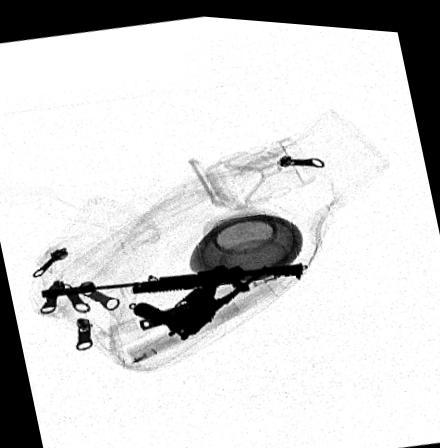Gun: (130, 258, 274, 337), (39, 254, 304, 296)
